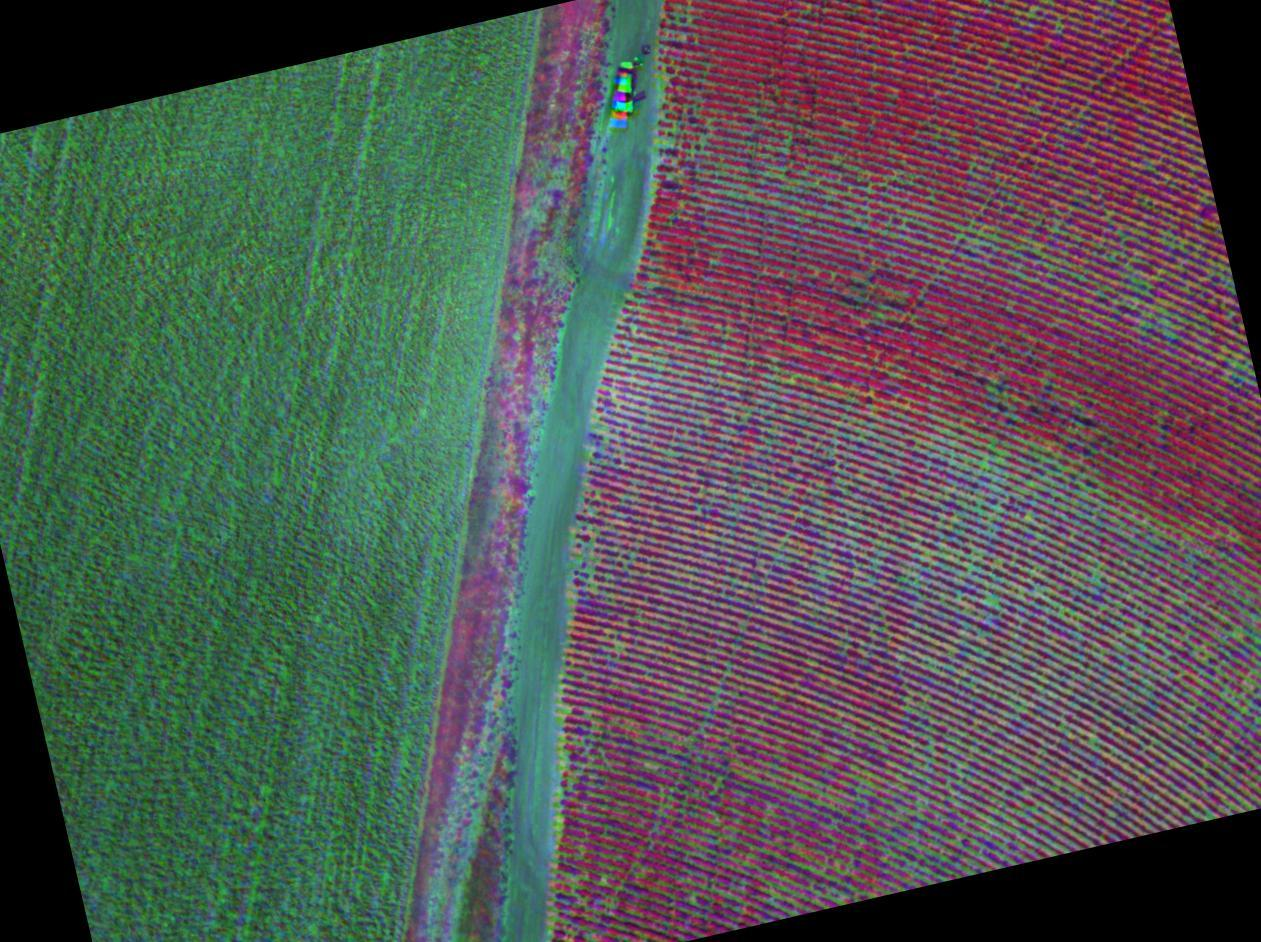dc: (989, 594, 998, 607), (1030, 5, 1036, 17), (985, 62, 992, 70), (1027, 513, 1032, 523), (967, 223, 972, 231)
